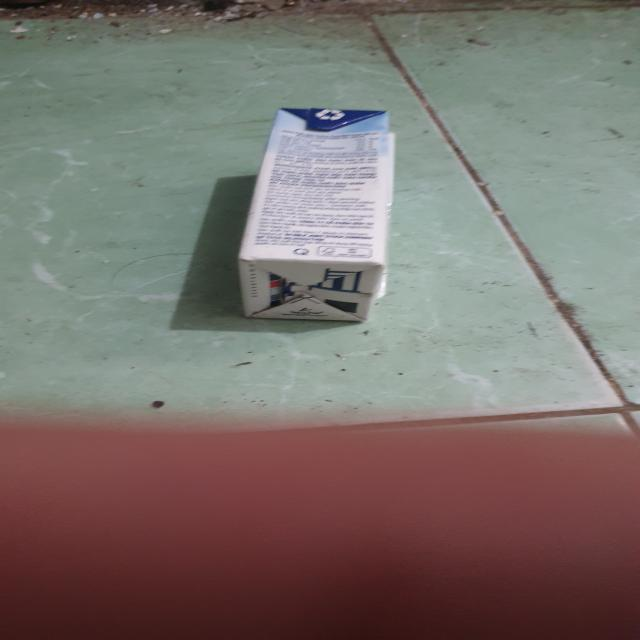TH: (230, 105, 409, 330)
